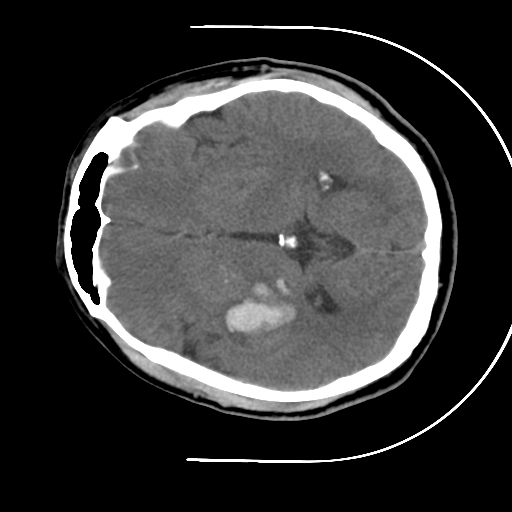a: (210, 267, 303, 353)
